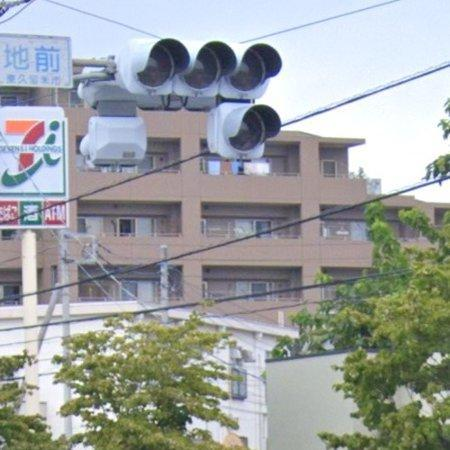traffic lights: (121, 35, 281, 104), (208, 100, 284, 162)
